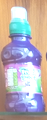blueberries: (2, 6, 46, 115)
